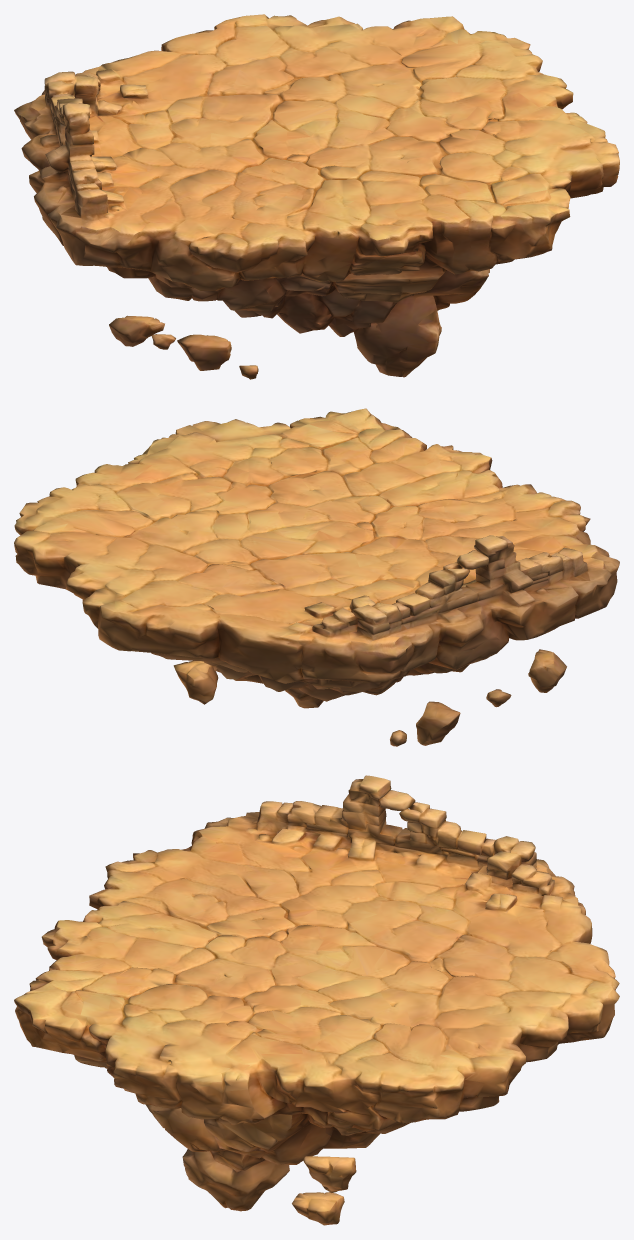
Rendered from R1_Island_Plateau.fbx.
3 renders of one model, top to bottom at view 1: azimuth 30°, elevation 25°; view 2: azimuth 150°, elevation 25°; view 3: azimuth 270°, elevation 25°, orthographic. The views are drawn at different scales.
Visible parts, largest first — view 1: R1_Island_Plateau; view 2: R1_Island_Plateau; view 3: R1_Island_Plateau.
Part boxes in pixels (left/top/right/bottom): R1_Island_Plateau: left=14, top=14, right=619, bottom=379; R1_Island_Plateau: left=14, top=408, right=619, bottom=746; R1_Island_Plateau: left=14, top=775, right=619, bottom=1225.
Bounding box in the file's own units: 900 × 450 × 830.
1 material, 1 textured.
